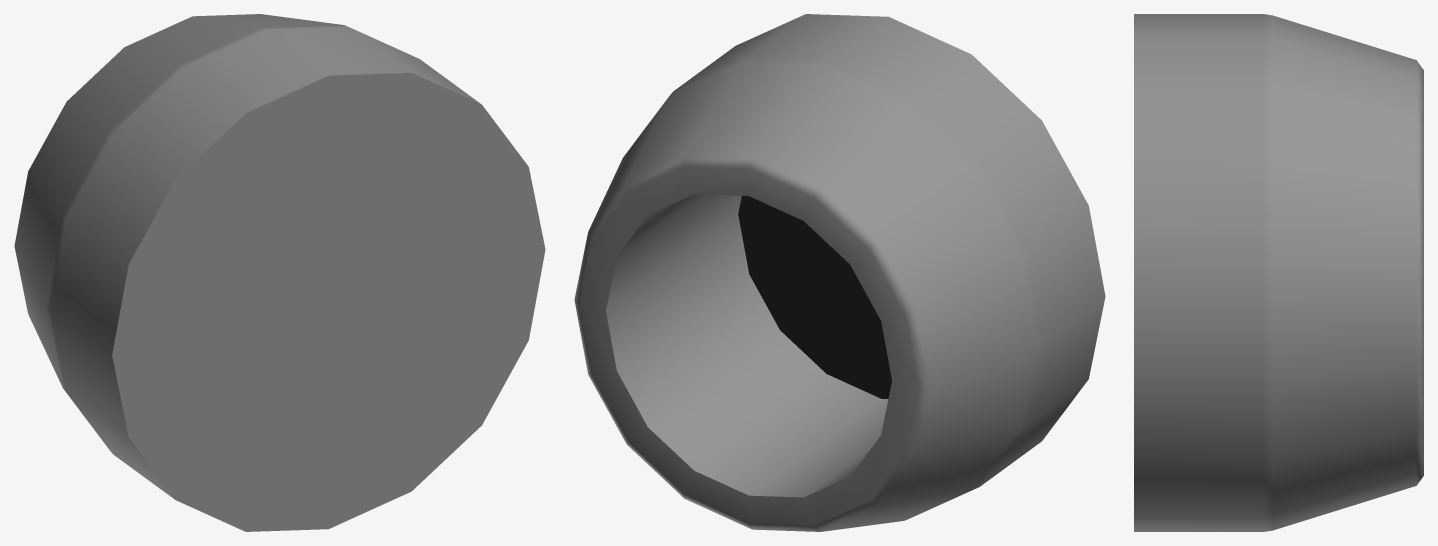
Rendered from pipeglassbase_001.fbx.
3 renders of one model, left to right at view 1: azimuth 30°, elevation 25°; view 2: azimuth 150°, elevation 25°; view 3: azimuth 270°, elevation 25°, orthographic. The views are drawn at different scales.
Visible parts, largest first — view 1: pipeglassbase_001; view 2: pipeglassbase_001; view 3: pipeglassbase_001.
Boxes of the visible parts, bbox=[...] form: pipeglassbase_001: bbox=[14, 14, 545, 531]; pipeglassbase_001: bbox=[574, 14, 1105, 531]; pipeglassbase_001: bbox=[1134, 14, 1423, 531].
Size of the model in its own units: 599 by 335 by 599.
